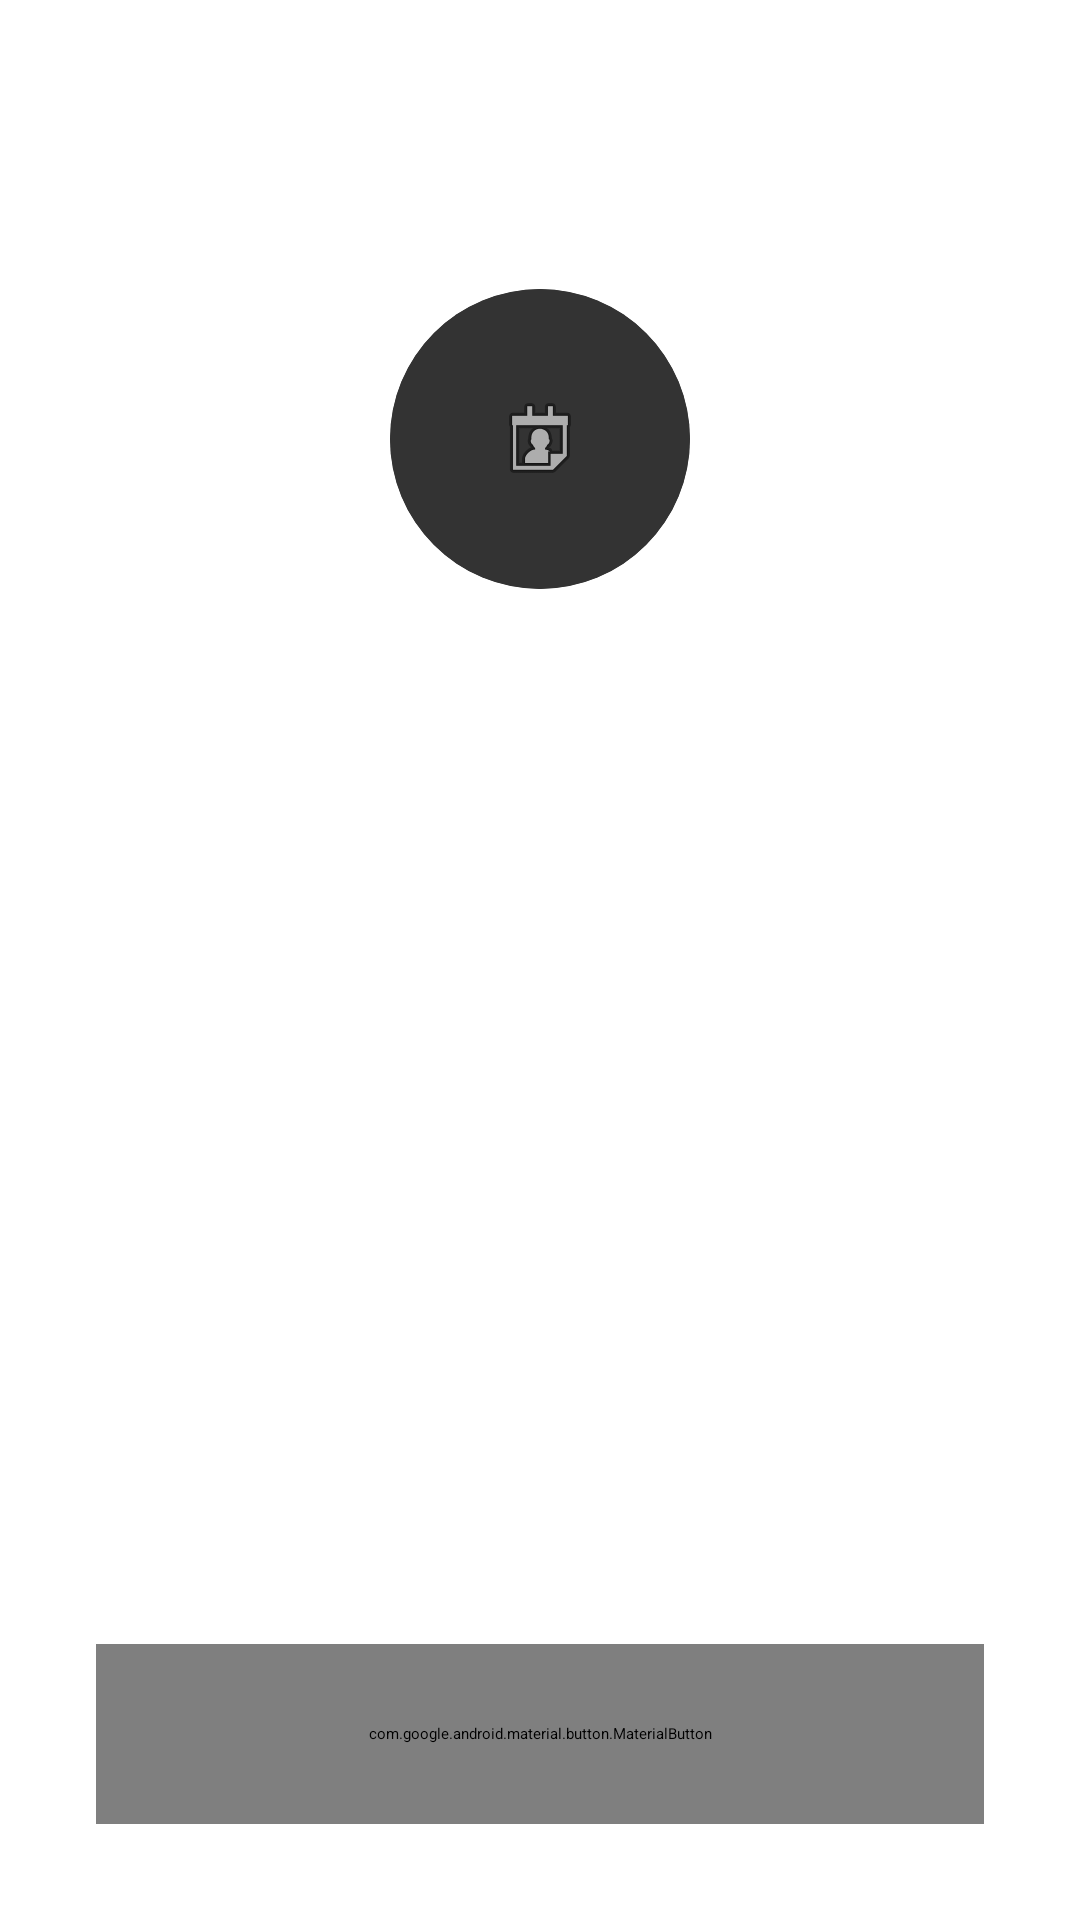

Named icons in this screenshot (1080 × 1920) and their centers, (x=x, y=y):
calendar: (x=540, y=439)
